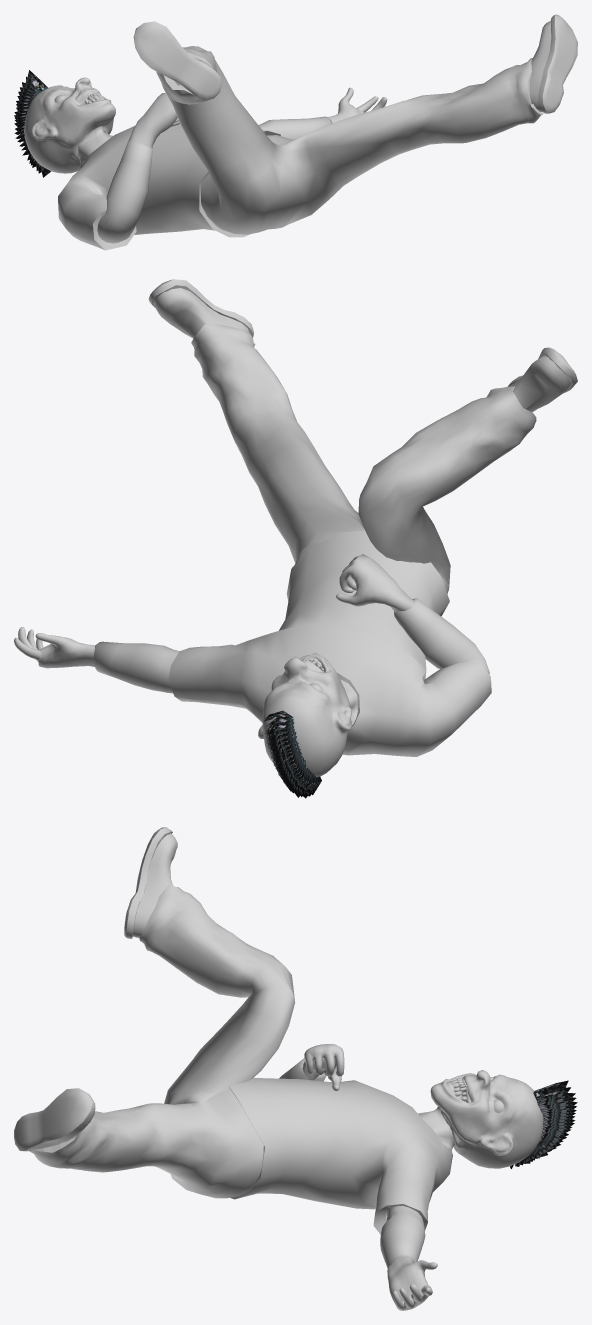
The model's file is Dead (45).obj.
3 renders of one model, top to bottom at view 1: azimuth 30°, elevation 25°; view 2: azimuth 150°, elevation 25°; view 3: azimuth 270°, elevation 25°, orthographic. The views are drawn at different scales.
Visible parts, largest first — view 1: pants, shirt, head, forearm_band_01, boots, boots001, hand_right, Hair, forearm_band_002, hand_left, neck; view 2: pants, shirt, head, forearm_band_01, forearm_band_002, boots001, hand_right, Hair, boots, hand_left; view 3: pants, shirt, head, boots001, boots, Hair, forearm_band_002, hand_left, hand_right, neck.
Boxes of the visible parts, x1,y1,x2,y2 form: pants: (156, 46, 544, 234); shirt: (58, 123, 280, 250); head: (24, 77, 115, 173); forearm_band_01: (97, 140, 152, 243); boots: (133, 21, 221, 100); boots001: (529, 14, 577, 113); hand_right: (129, 93, 179, 148); Hair: (14, 70, 50, 177); forearm_band_002: (258, 116, 332, 139); hand_left: (327, 87, 387, 123); neck: (78, 126, 112, 165); pants: (191, 323, 536, 593); shirt: (168, 530, 491, 756); head: (258, 652, 351, 777); forearm_band_01: (394, 598, 489, 674); forearm_band_002: (93, 641, 179, 693); boots001: (148, 279, 253, 338); hand_right: (336, 554, 414, 612); Hair: (263, 710, 321, 798); boots: (507, 347, 577, 412); hand_left: (14, 627, 94, 668); pants: (29, 883, 295, 1198); shirt: (228, 1078, 452, 1234); head: (430, 1070, 543, 1168); boots001: (14, 1088, 95, 1151); boots: (124, 827, 177, 938); Hair: (510, 1080, 577, 1168); forearm_band_002: (380, 1205, 425, 1267); hand_left: (387, 1256, 437, 1310); hand_right: (302, 1044, 344, 1090); neck: (418, 1106, 454, 1150).
Bounding box in the file's own units: 139 × 95.93 × 151.
